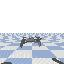drone: (20, 36, 42, 48)
